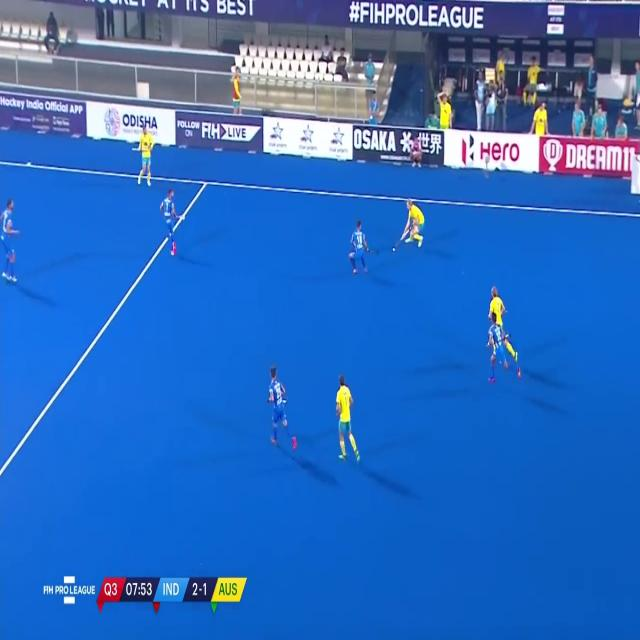ball: (390, 244, 398, 255)
